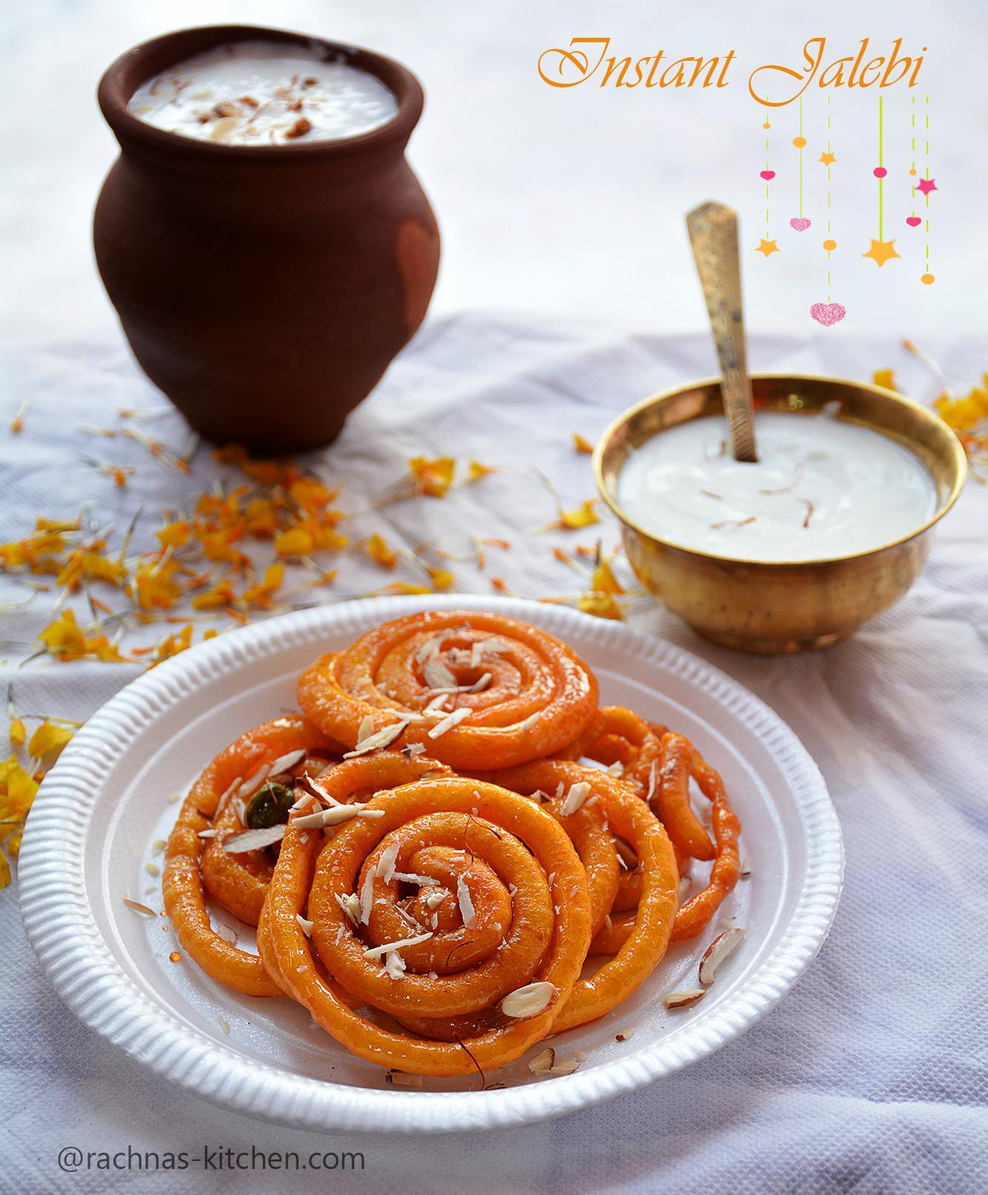jalebi: (189, 602, 767, 1082)
